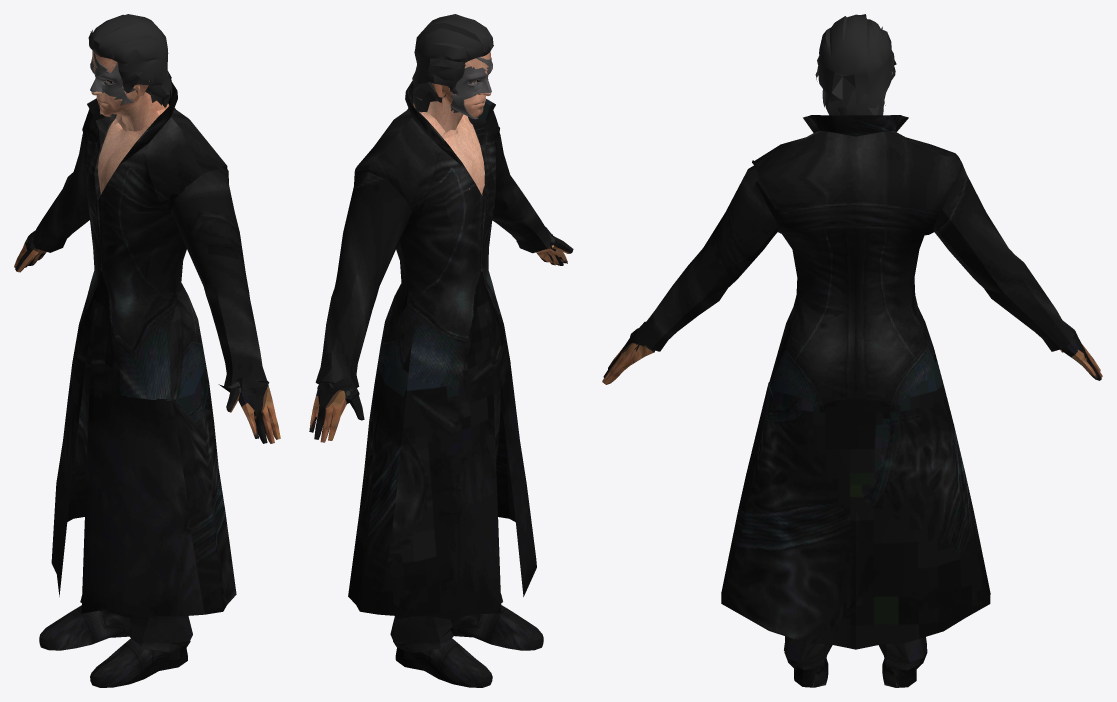
The model's file is krrish_3_-_the_indian_superhero.glb.
The picture shows the model from 3 angles, left to right: view 1: azimuth 30°, elevation 25°; view 2: azimuth 150°, elevation 25°; view 3: azimuth 270°, elevation 25°; orthographic projection. The views are drawn at different scales.
Parts seen in each view (by area): view 1: Object_3, Object_5, Object_7, Object_8, Object_4; view 2: Object_3, Object_5, Object_7, Object_8, Object_4; view 3: Object_3, Object_5, Object_8.
Part boxes in pixels (box(x1,y1,x2,y2)): Object_3: box(32, 82, 267, 687); Object_5: box(25, 14, 241, 393); Object_7: box(91, 50, 169, 194); Object_8: box(14, 230, 280, 443); Object_4: box(90, 51, 133, 114); Object_3: box(315, 81, 551, 687); Object_5: box(329, 14, 554, 396); Object_7: box(413, 51, 491, 195); Object_8: box(309, 227, 573, 442); Object_4: box(450, 57, 492, 119); Object_3: box(637, 115, 1074, 687); Object_5: box(815, 14, 896, 115); Object_8: box(602, 321, 1102, 384).
Size of the model in its own units: 0.2554 by 1.06 by 0.7407.
Materials: 7 (5 with a texture image).
